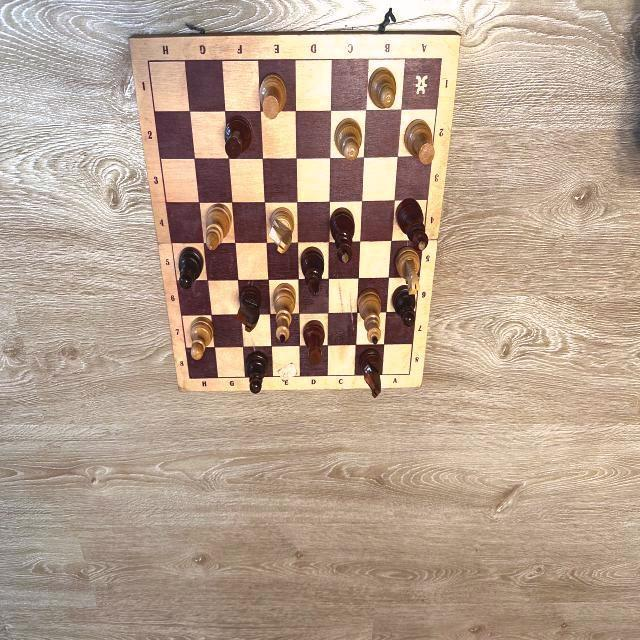chess-table-corners: (142, 55, 154, 68), (438, 54, 447, 64), (186, 372, 193, 384), (406, 371, 414, 378)
